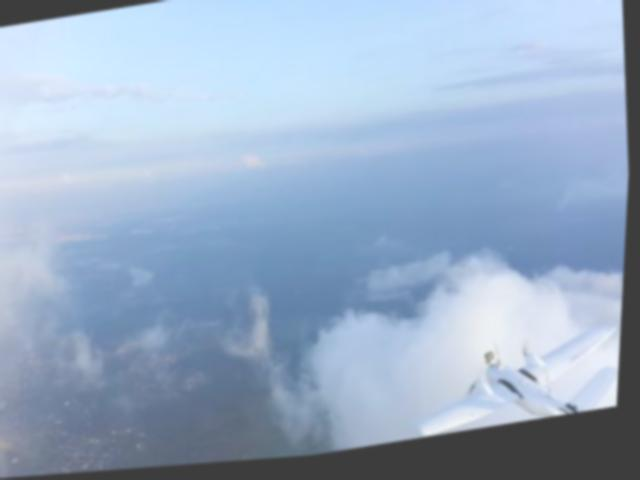uav: (415, 322, 625, 445)
